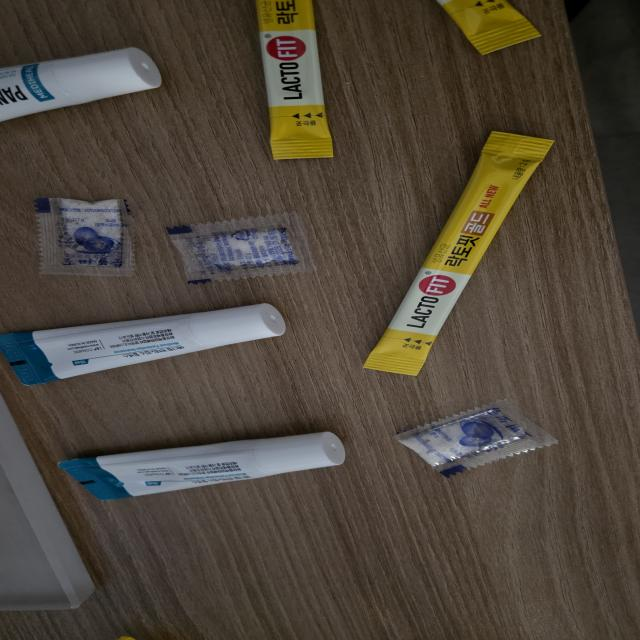lacto: (351, 128, 570, 381), (251, 0, 345, 165), (420, 0, 552, 59)
lip: (0, 286, 302, 393), (44, 417, 354, 509), (0, 27, 183, 132)
salt: (381, 385, 567, 484), (150, 202, 325, 295), (21, 195, 145, 282)
